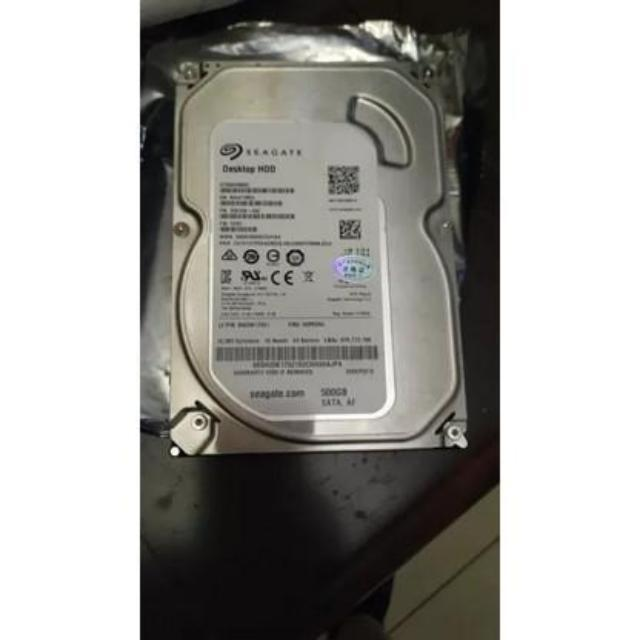DISK: (174, 59, 466, 450)
